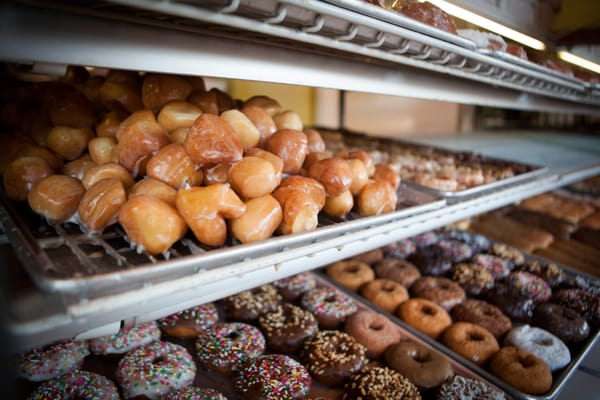salad: (114, 340, 197, 398), (117, 194, 186, 254), (299, 330, 369, 386), (195, 321, 266, 373), (233, 353, 312, 399), (270, 175, 326, 235), (258, 301, 319, 355), (17, 338, 91, 382), (448, 298, 513, 344), (229, 193, 284, 244), (77, 177, 128, 232), (439, 322, 500, 366), (32, 369, 120, 399), (396, 298, 452, 339), (359, 277, 409, 314)
